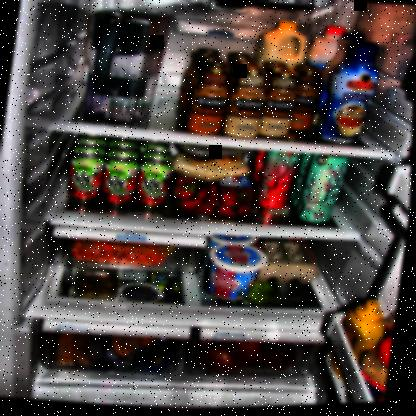strawberries: (177, 197, 202, 214), (215, 205, 241, 221), (234, 204, 255, 218), (220, 192, 242, 204), (241, 190, 258, 205), (181, 186, 197, 200), (199, 204, 215, 218), (198, 187, 212, 199), (207, 193, 221, 204)
yoghurt: (204, 242, 270, 304)
